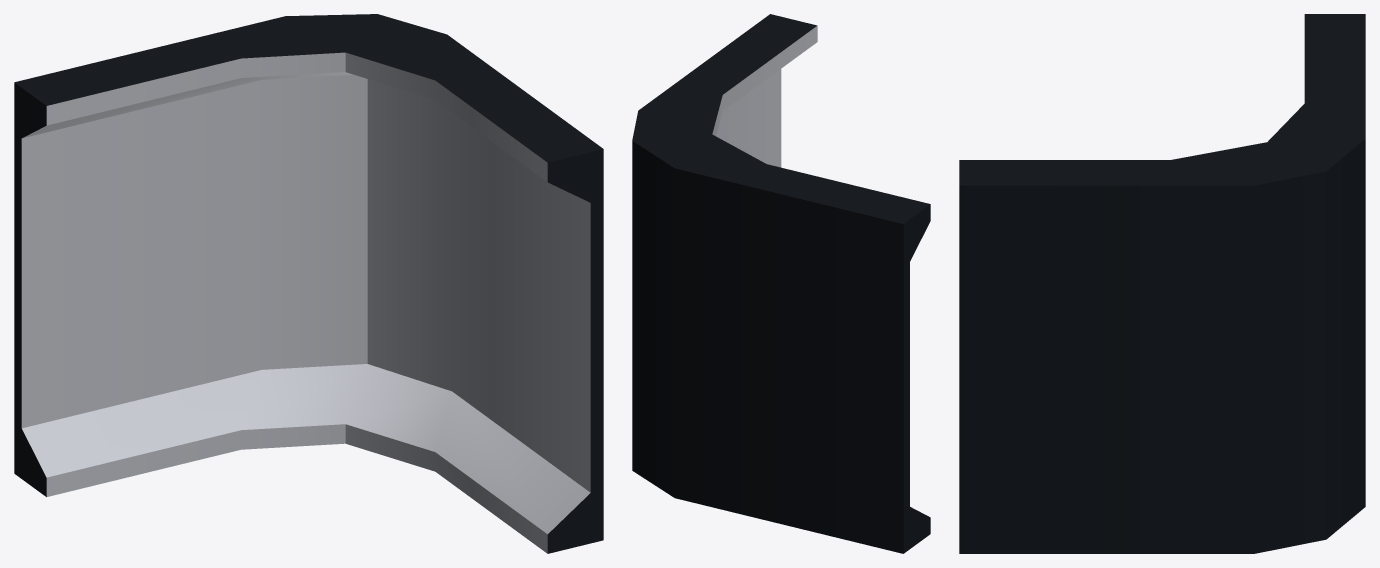
The model's file is sm_Wall_In_B_Collider.fbx.
3 views of the same model, side by side, from view 1: azimuth 30°, elevation 25°; view 2: azimuth 150°, elevation 25°; view 3: azimuth 270°, elevation 25° (orthographic). The views are drawn at different scales.
Visible parts, largest first — view 1: Wall_In_B_Collider; view 2: Wall_In_B_Collider; view 3: Wall_In_B_Collider.
Part boxes in pixels (box(x1,y1,x2,y2)): Wall_In_B_Collider: box(14, 14, 603, 553); Wall_In_B_Collider: box(632, 14, 930, 553); Wall_In_B_Collider: box(959, 14, 1365, 553).
Bounding box in the file's own units: 200 × 200 × 200.
